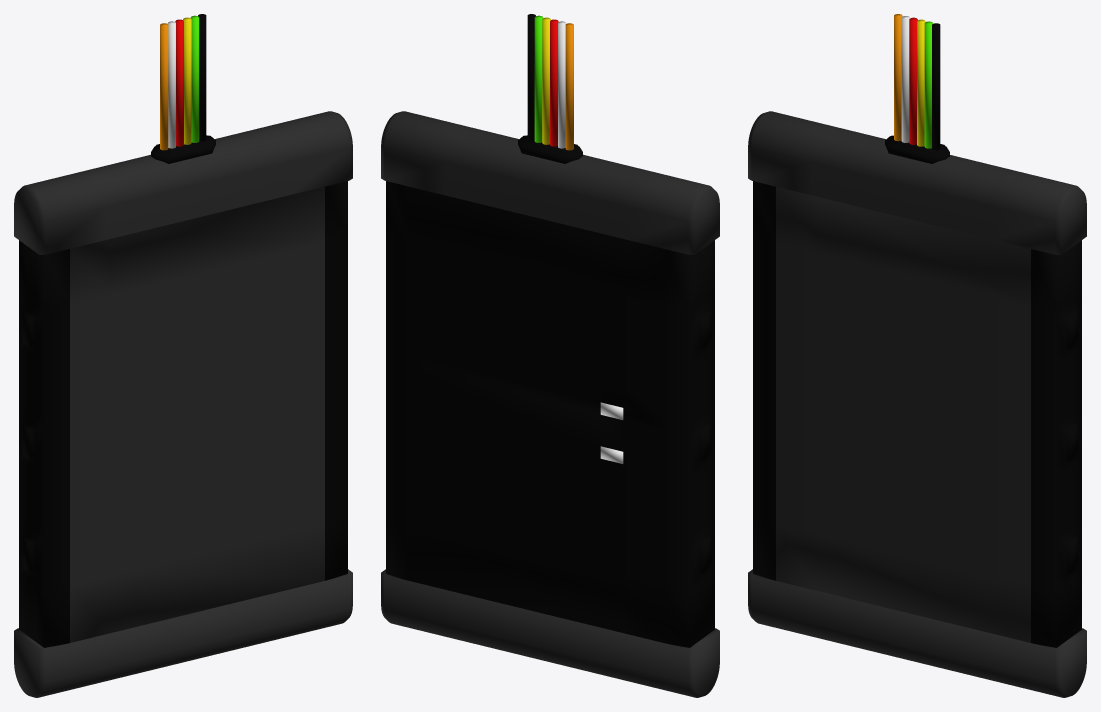
File: Engine Immobilizer.glb
3 renders of one model, left to right at view 1: azimuth 30°, elevation 25°; view 2: azimuth 150°, elevation 25°; view 3: azimuth 330°, elevation 25°, orthographic.
Visible parts, largest first — view 1: Engine Immobilizer.003; view 2: Engine Immobilizer.003; view 3: Engine Immobilizer.003.
Boxes of the visible parts, x1=… form: Engine Immobilizer.003: x1=14, y1=14, x2=352, y2=697; Engine Immobilizer.003: x1=381, y1=14, x2=719, y2=697; Engine Immobilizer.003: x1=748, y1=14, x2=1086, y2=697.
Bounding box in the file's own units: 5.16 × 10.04 × 0.8.
12 materials, 1 textured.
